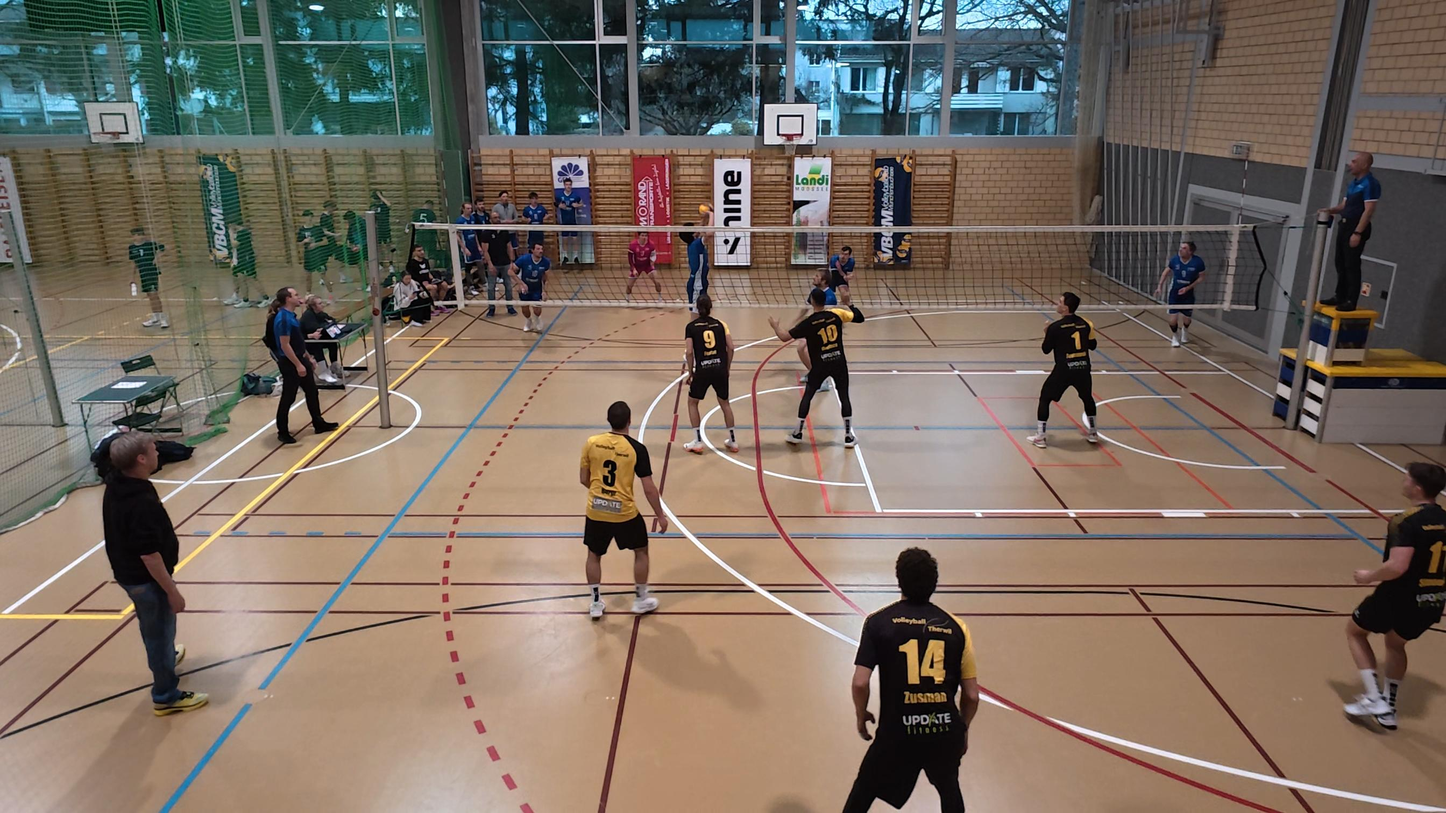Player: (841, 548, 978, 812), (1344, 463, 1445, 731), (580, 401, 668, 618), (786, 293, 863, 448), (1031, 291, 1102, 448), (679, 296, 738, 453), (789, 267, 840, 383), (1158, 239, 1206, 347), (514, 240, 550, 333), (623, 231, 666, 303), (824, 238, 857, 301)
Set: (676, 205, 718, 318)
ball: (697, 201, 713, 216)
